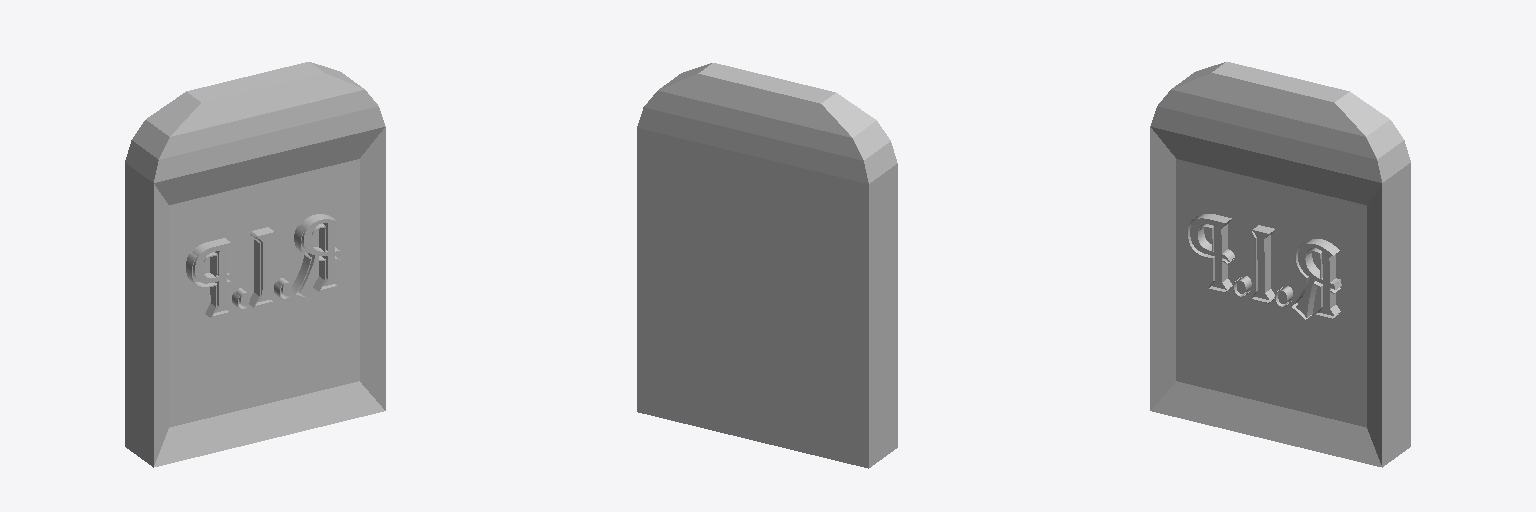
The model's file is gravestone.obj.
The picture shows the model from 3 angles: view 1: azimuth 30°, elevation 25°; view 2: azimuth 150°, elevation 25°; view 3: azimuth 330°, elevation 25°; orthographic projection.
Visible parts, largest first — view 1: Gravestone, Text; view 2: Gravestone; view 3: Gravestone, Text.
Part boxes in pixels (bbox=[...]): Gravestone: bbox=[125, 62, 385, 467]; Text: bbox=[186, 214, 340, 317]; Gravestone: bbox=[637, 63, 897, 468]; Gravestone: bbox=[1150, 62, 1410, 467]; Text: bbox=[1187, 214, 1341, 319].
Bounding box in the file's own units: 0.7 × 1 × 0.1575.